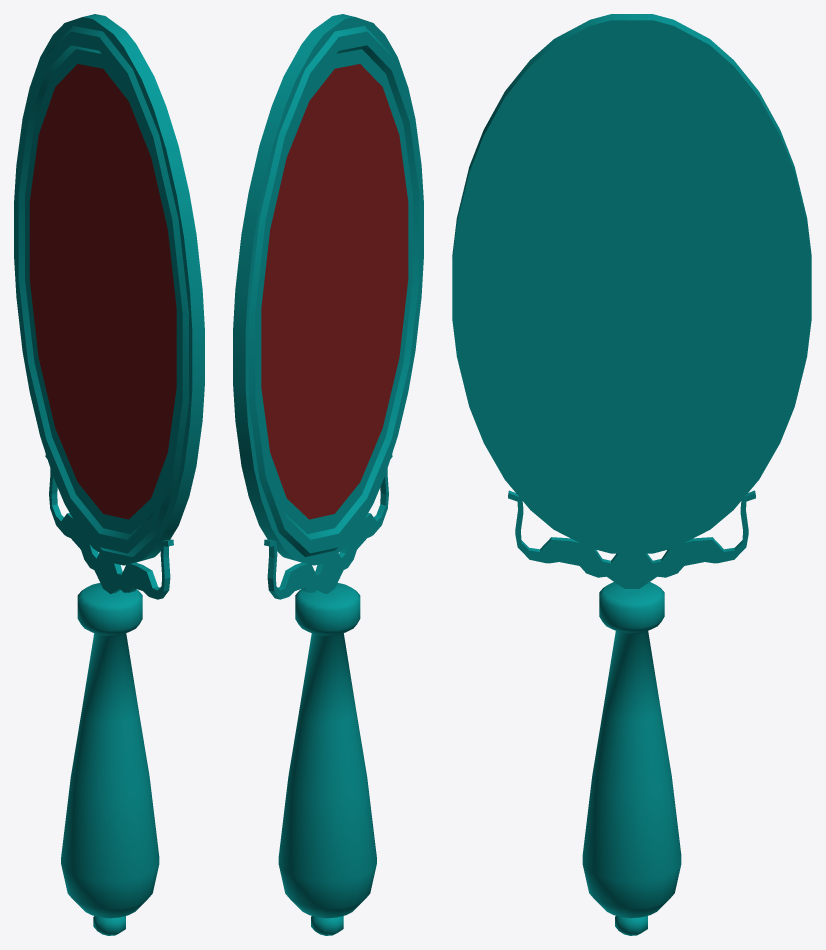
The model's file is miroir.fbx.
The picture shows the model from 3 angles, left to right: view 1: azimuth 30°, elevation 25°; view 2: azimuth 150°, elevation 25°; view 3: azimuth 270°, elevation 25°; orthographic projection.
Parts seen in each view (by area): view 1: miroire; view 2: miroire; view 3: miroire.
Boxes of the visible parts, x1=… form: miroire: x1=14, y1=14, x2=204, y2=935; miroire: x1=233, y1=14, x2=423, y2=935; miroire: x1=452, y1=14, x2=811, y2=935.
Bounding box in the file's own units: 13.76 × 138 × 49.24.
